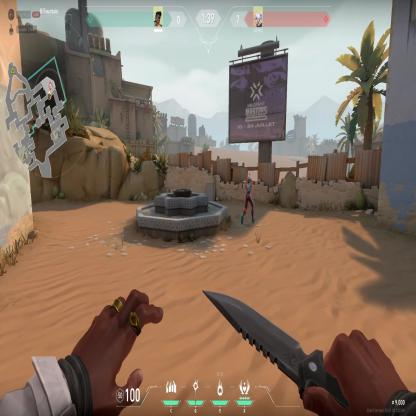enemy: (240, 172, 256, 228)
